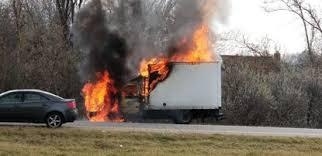fire: (77, 67, 128, 122), (173, 20, 214, 63)
